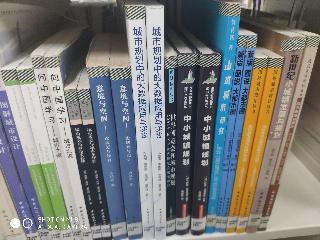book-spine: (255, 34, 320, 233), (242, 34, 306, 235), (1, 68, 60, 240), (31, 54, 82, 240), (18, 68, 73, 240), (203, 2, 241, 233), (45, 56, 92, 240), (234, 56, 282, 234), (217, 34, 256, 232), (224, 57, 267, 234), (0, 91, 49, 240), (87, 66, 127, 240), (185, 52, 221, 236), (213, 36, 246, 232), (127, 6, 154, 240), (64, 88, 102, 240), (110, 68, 142, 239), (170, 54, 198, 236), (78, 88, 111, 240), (146, 6, 166, 239), (0, 127, 39, 240), (164, 56, 177, 235)
